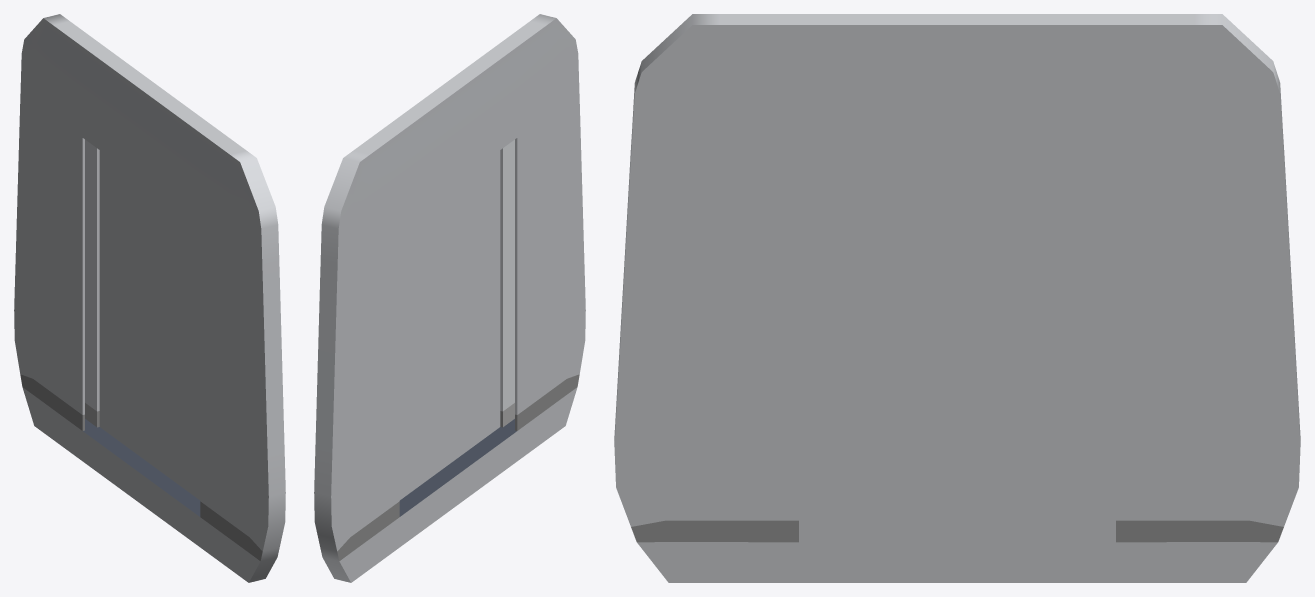
The model's file is zac_end_cap.fbx.
3 renders of one model, left to right at view 1: azimuth 30°, elevation 25°; view 2: azimuth 150°, elevation 25°; view 3: azimuth 270°, elevation 25°, orthographic. The views are drawn at different scales.
Parts seen in each view (by area): view 1: Hull_End_Door; view 2: Hull_End_Door; view 3: Hull_End_Door.
Boxes of the visible parts, x1,y1,x2,y2 form: Hull_End_Door: [14, 14, 285, 582]; Hull_End_Door: [314, 14, 585, 582]; Hull_End_Door: [614, 14, 1300, 582].
Bounding box in the file's own units: 11.62 × 271 × 302.
